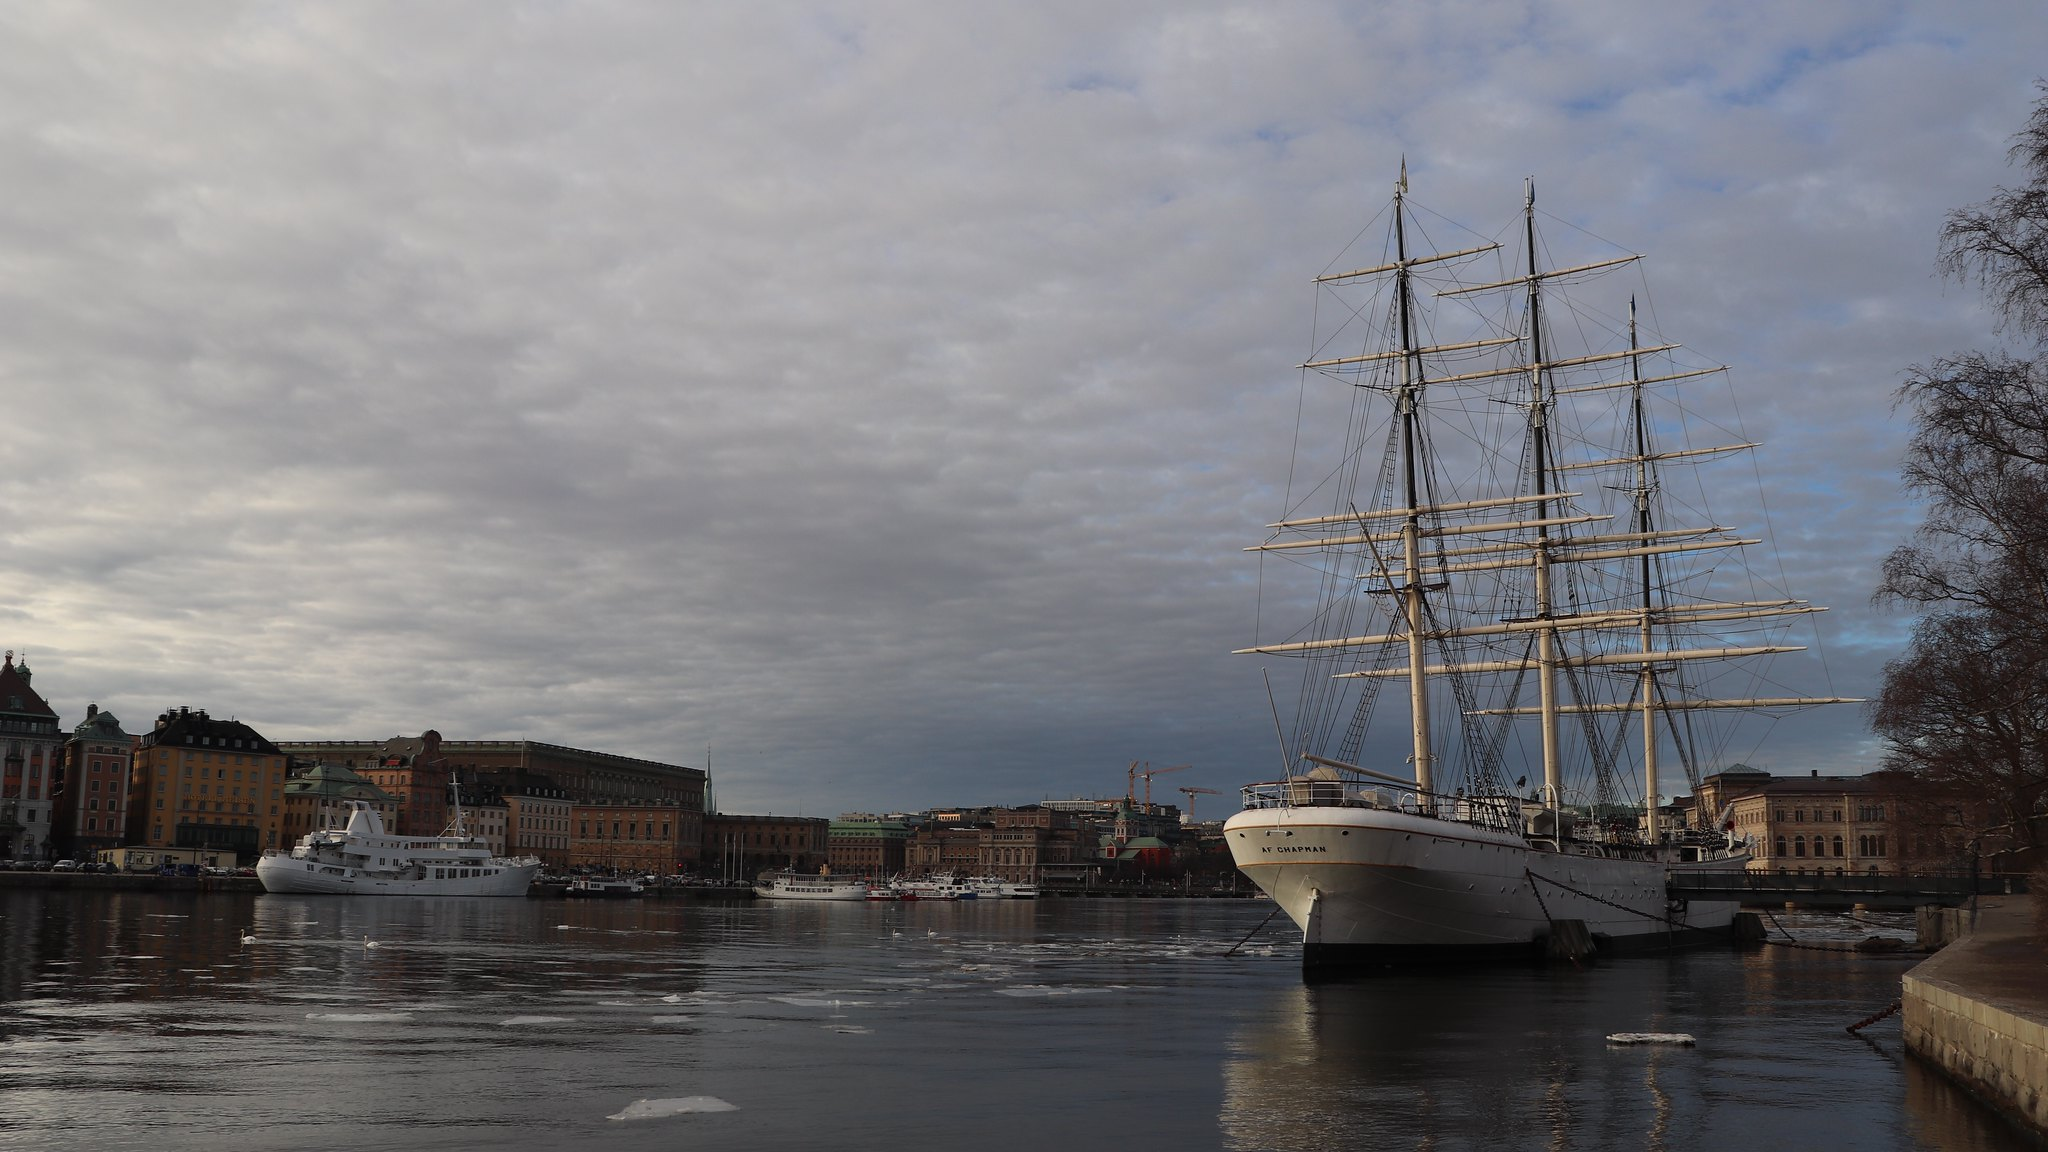boat: (1232, 163, 1805, 966), (248, 788, 551, 909)
